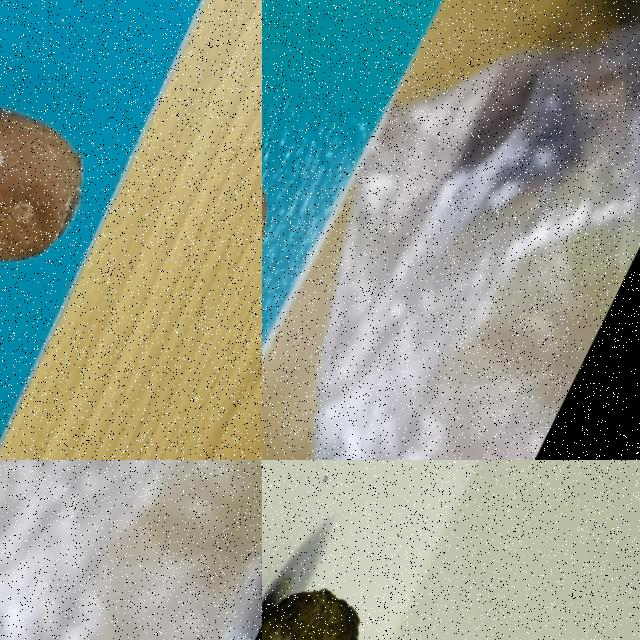Fine_cocoabeans: (0, 0, 161, 397), (262, 460, 483, 639)
Flat_cocoabeans: (262, 58, 351, 459), (0, 460, 64, 631)
